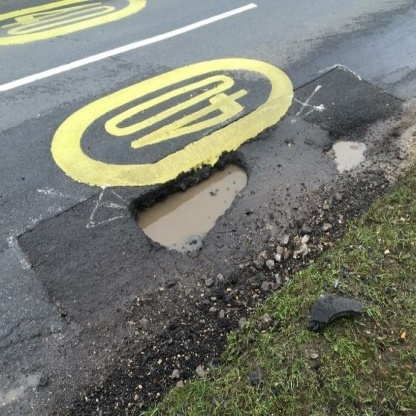pothole: (108, 145, 257, 267), (312, 117, 379, 181)
